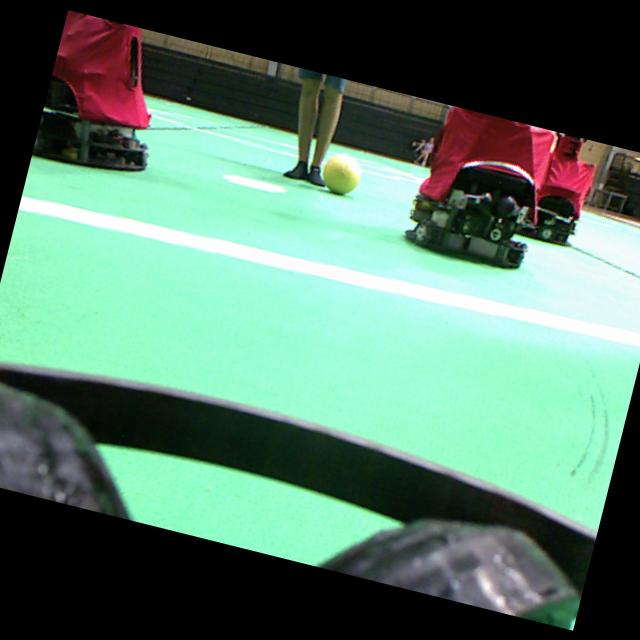ball: (323, 153, 361, 193)
